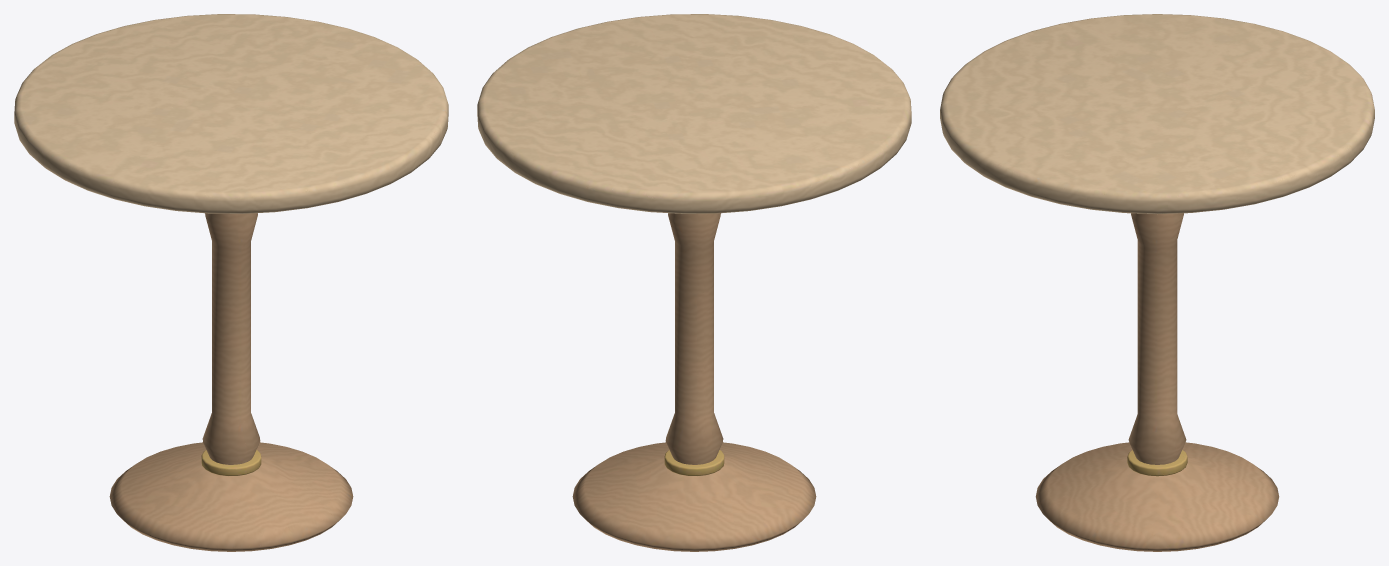
The model's file is trumua-round-cafe-table.glb.
The picture shows the model from 3 angles, left to right: view 1: azimuth 30°, elevation 25°; view 2: azimuth 150°, elevation 25°; view 3: azimuth 270°, elevation 25°; orthographic projection.
Visible parts, largest first — view 1: trumua-round-cafe-table; view 2: trumua-round-cafe-table; view 3: trumua-round-cafe-table.
Boxes of the visible parts, x1,y1,x2,y2 form: trumua-round-cafe-table: (14, 14, 448, 551); trumua-round-cafe-table: (477, 14, 911, 551); trumua-round-cafe-table: (940, 14, 1374, 551).
Size of the model in its own units: 0.75 by 0.76 by 0.75.
1 material, 1 textured.
